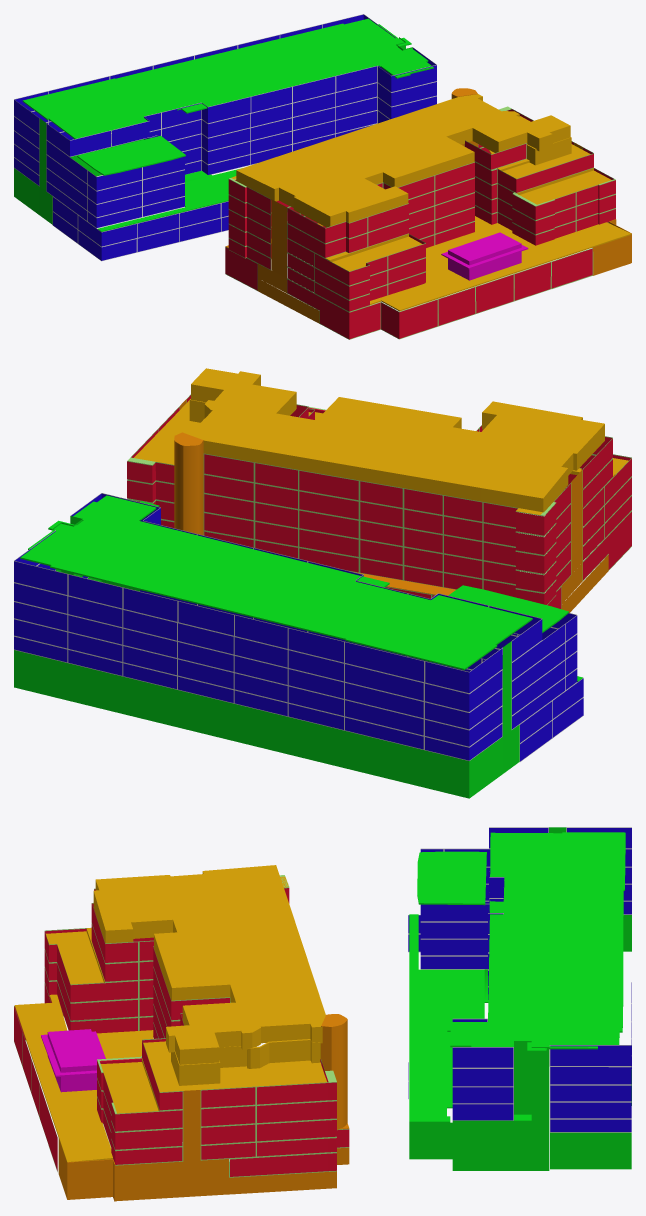
Rendered from loft_13_03.glb.
3 renders of one model, top to bottom at view 1: azimuth 30°, elevation 25°; view 2: azimuth 150°, elevation 25°; view 3: azimuth 270°, elevation 25°, orthographic. The views are drawn at different scales.
Visible parts, largest first — view 1: SM_Roof_02, SM_Roof_01, Build1_Divider_01, Build2_Divider_01, Build1_Divider_01.001, SM_birdHhouse_01, Build1_Part_13, Build1_Part_09, Build1_Part_01, Build2_Divider_01.003, Build1_Part_42, SM_Hole_01 (+71 smaller); view 2: SM_Roof_02, SM_Roof_01, Build2_Divider_01.003, Build2_Divider_01, Build1_Divider_01, Build1_Divider_01.001, Build1_Part_48, Build2_Part_70, Build2_Part_65, Build1_Part_49, Build1_Part_50, Build1_Part_51 (+79 smaller); view 3: SM_Roof_02, SM_Roof_01, Build2_Divider_01.003, SM_Hole_01, Build1_Divider_01, Build1_Divider_01.001, SM_birdHhouse_01, Build2_Divider_01.001, Build2_Divider_01, Build1_Part_59, SM_Roof_03, Build2_Part_100 (+30 smaller).
Boxes of the visible parts, bbox=[...] form: SM_Roof_02: bbox=[231, 94, 631, 311]; SM_Roof_01: bbox=[22, 18, 433, 231]; Build1_Divider_01: bbox=[225, 106, 615, 339]; Build2_Divider_01: bbox=[14, 14, 436, 261]; Build1_Divider_01.001: bbox=[257, 88, 582, 323]; SM_birdHhouse_01: bbox=[441, 232, 528, 280]; Build1_Part_13: bbox=[287, 279, 380, 339]; Build1_Part_09: bbox=[381, 300, 437, 338]; Build1_Part_01: bbox=[498, 148, 593, 192]; Build2_Divider_01.003: bbox=[14, 139, 143, 224]; Build1_Part_42: bbox=[287, 208, 367, 243]; SM_Hole_01: bbox=[225, 219, 631, 275]; SM_Roof_02: bbox=[134, 368, 628, 514]; SM_Roof_01: bbox=[20, 495, 582, 681]; Build2_Divider_01.003: bbox=[14, 577, 519, 798]; Build2_Divider_01: bbox=[14, 493, 583, 761]; Build1_Divider_01: bbox=[127, 394, 631, 608]; Build1_Divider_01.001: bbox=[174, 399, 608, 612]; Build1_Part_48: bbox=[483, 484, 570, 535]; Build2_Part_70: bbox=[345, 642, 423, 681]; Build2_Part_65: bbox=[425, 648, 502, 692]; Build1_Part_49: bbox=[483, 504, 570, 554]; Build1_Part_50: bbox=[483, 523, 570, 573]; Build1_Part_51: bbox=[483, 542, 570, 592]; SM_Roof_02: bbox=[14, 865, 328, 1162]; SM_Roof_01: bbox=[409, 832, 625, 1122]; Build2_Divider_01.003: bbox=[452, 915, 631, 1170]; SM_Hole_01: bbox=[58, 1123, 349, 1201]; Build1_Divider_01: bbox=[14, 875, 349, 1177]; Build1_Divider_01.001: bbox=[183, 1014, 347, 1161]; SM_birdHhouse_01: bbox=[41, 1029, 105, 1092]; Build2_Divider_01.001: bbox=[514, 827, 566, 1120]; Build2_Divider_01: bbox=[408, 827, 631, 1132]; Build1_Part_59: bbox=[230, 1129, 349, 1176]; SM_Roof_03: bbox=[409, 1122, 452, 1159]; Build2_Part_100: bbox=[550, 1045, 631, 1065].
Bounding box in the file's own units: 108 × 28.52 × 114.
